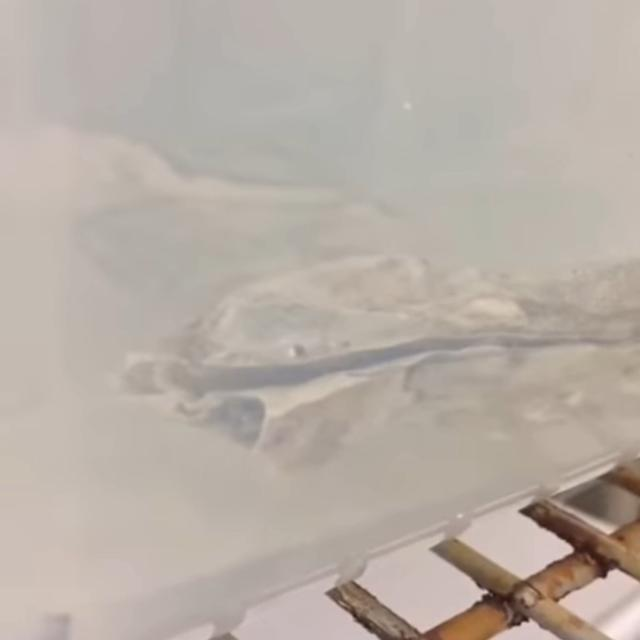Oyster-Indeterminate: (55, 117, 362, 235)
Oyster-Open: (104, 255, 640, 474)
